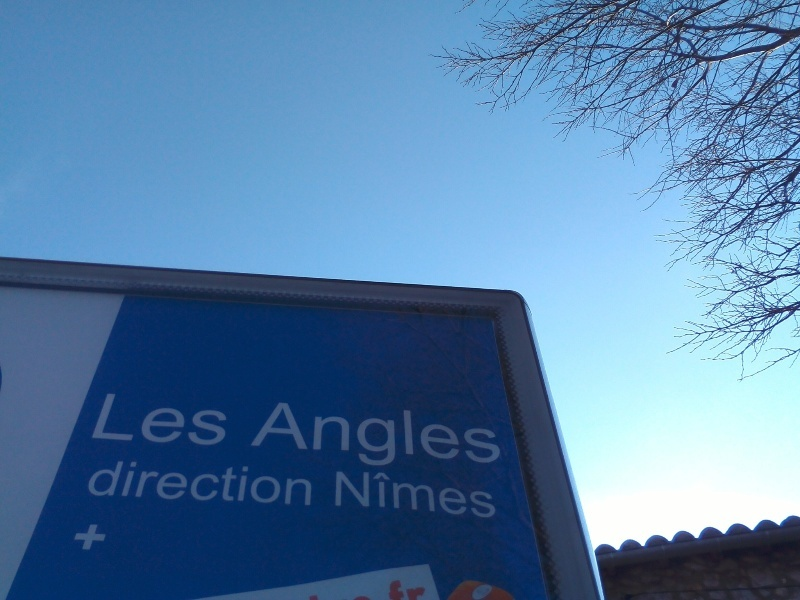text: (257, 398, 272, 472), (273, 398, 288, 472), (289, 398, 304, 472), (305, 398, 320, 472), (321, 398, 336, 472), (337, 398, 352, 472), (353, 398, 368, 472), (369, 398, 384, 472), (385, 398, 400, 472), (401, 398, 416, 472), (417, 398, 432, 472), (433, 398, 448, 472), (449, 398, 464, 472), (465, 398, 480, 472), (481, 398, 496, 472), (113, 392, 128, 448), (129, 392, 144, 448), (145, 392, 160, 448), (161, 392, 176, 448), (177, 392, 192, 448), (193, 392, 208, 448), (209, 392, 224, 448), (337, 466, 352, 522), (353, 466, 368, 522), (369, 466, 384, 522), (385, 466, 400, 522), (401, 466, 416, 522), (417, 466, 432, 522), (433, 466, 448, 522), (449, 466, 464, 522), (465, 466, 480, 522), (481, 466, 496, 522), (97, 456, 112, 510), (113, 456, 128, 510), (129, 456, 144, 510), (145, 456, 160, 510), (161, 456, 176, 510), (177, 456, 192, 510), (193, 456, 208, 510), (209, 456, 224, 510), (225, 456, 240, 510), (241, 456, 256, 510), (257, 456, 272, 510), (273, 456, 288, 510), (289, 456, 304, 510), (305, 456, 315, 510), (497, 398, 504, 472), (225, 392, 233, 448), (250, 398, 256, 472), (305, 575, 320, 600), (321, 575, 336, 600), (337, 575, 352, 600), (353, 575, 368, 600), (369, 575, 384, 600), (385, 575, 400, 600), (401, 575, 416, 600), (417, 575, 429, 600), (497, 466, 502, 522), (108, 392, 112, 448), (334, 466, 336, 522), (300, 575, 304, 600), (95, 456, 96, 510)
